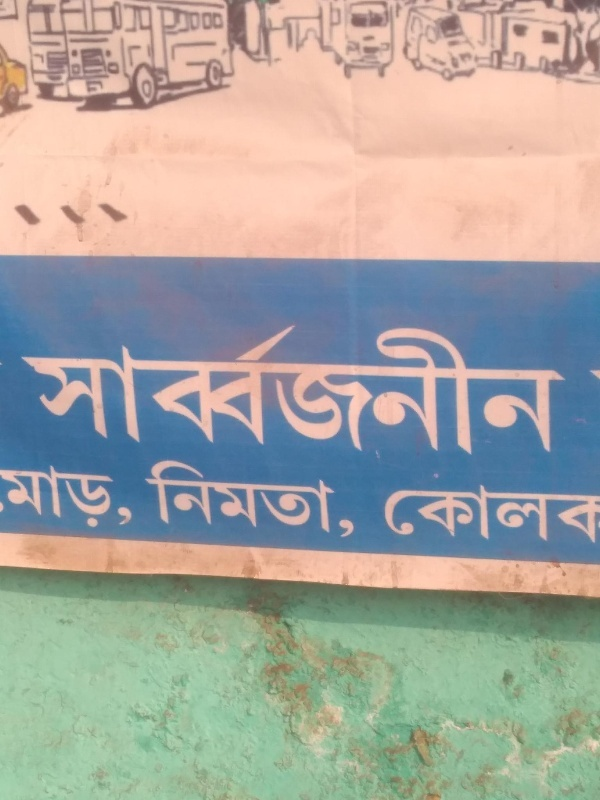text: (33, 310, 48, 464), (49, 310, 64, 464), (65, 310, 80, 464), (81, 310, 96, 464), (97, 310, 112, 464), (113, 310, 128, 464), (129, 310, 144, 464), (145, 310, 160, 464), (161, 310, 176, 464), (177, 310, 192, 464), (193, 310, 208, 464), (209, 310, 224, 464), (225, 310, 240, 464), (241, 310, 256, 464), (257, 310, 272, 464), (273, 310, 288, 464), (289, 310, 304, 464), (305, 310, 320, 464), (321, 310, 336, 464), (337, 310, 352, 464), (353, 310, 368, 464), (369, 310, 384, 464), (385, 310, 400, 464), (401, 310, 416, 464), (417, 310, 432, 464), (433, 310, 448, 464), (449, 310, 464, 464), (465, 310, 480, 464), (481, 310, 496, 464), (497, 310, 512, 464), (513, 310, 528, 464), (529, 310, 544, 464), (545, 310, 560, 464), (19, 310, 32, 464), (561, 310, 572, 464), (145, 456, 160, 540), (161, 456, 176, 540), (177, 456, 192, 540), (193, 456, 208, 540), (209, 456, 224, 540), (225, 456, 240, 540), (241, 456, 256, 540), (257, 456, 272, 540), (273, 456, 288, 540), (289, 456, 304, 540), (305, 456, 320, 540), (321, 456, 336, 540), (337, 456, 352, 540), (1, 463, 16, 529), (17, 463, 32, 529), (33, 463, 48, 529), (49, 463, 64, 529), (65, 463, 80, 529), (81, 463, 96, 529), (97, 463, 112, 529), (113, 463, 128, 529), (385, 482, 400, 545), (401, 482, 416, 545), (417, 482, 432, 545), (433, 482, 448, 545), (449, 482, 464, 545), (465, 482, 480, 545), (481, 482, 496, 545), (497, 482, 512, 545), (513, 482, 528, 545), (529, 482, 544, 545), (545, 482, 560, 545), (561, 482, 576, 545), (577, 482, 592, 545), (353, 456, 361, 540), (129, 463, 138, 529), (593, 482, 598, 545), (142, 456, 144, 540), (597, 351, 600, 398), (383, 482, 384, 545)
